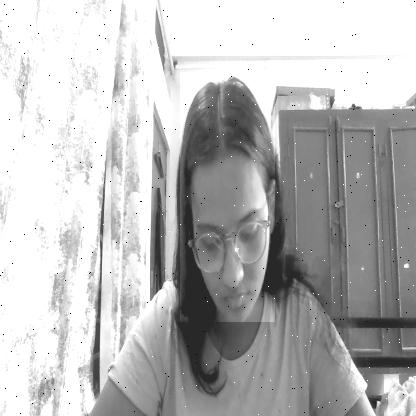Distracted: (180, 72, 275, 322)
